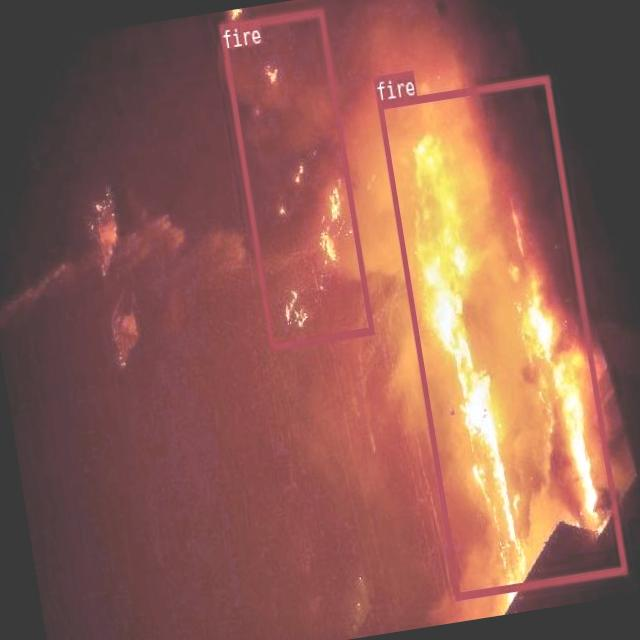fire: (377, 75, 627, 600), (218, 8, 374, 350)
